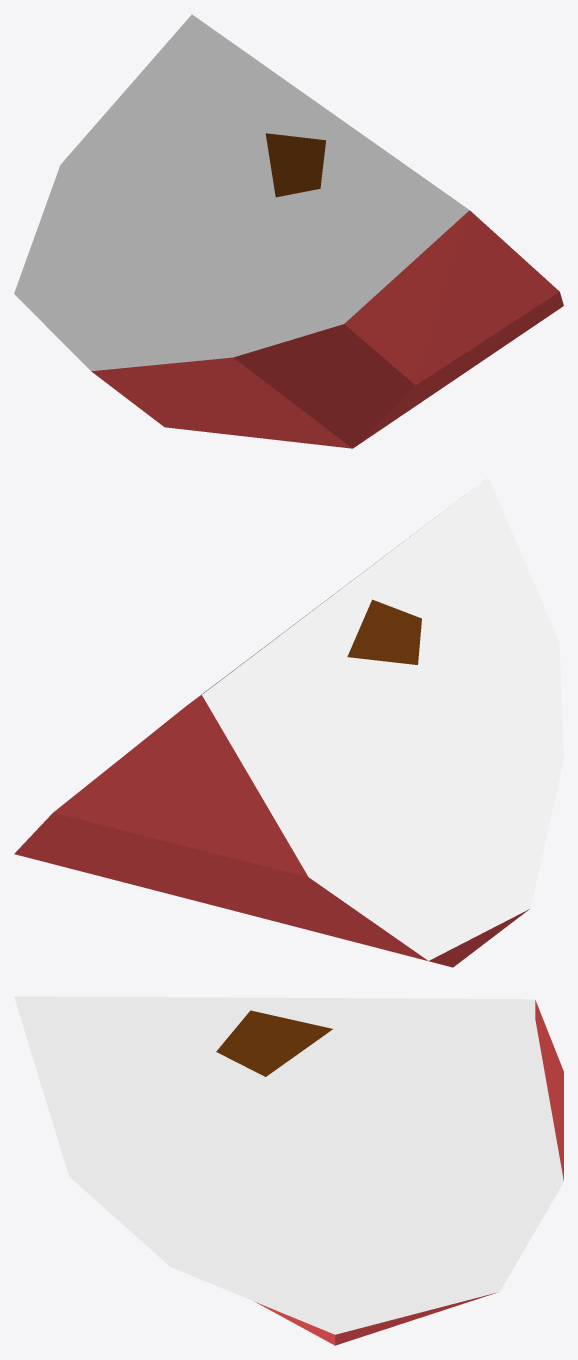
File: applered03.gltf
The picture shows the model from 3 angles, top to bottom: view 1: azimuth 30°, elevation 25°; view 2: azimuth 150°, elevation 25°; view 3: azimuth 270°, elevation 25°; orthographic projection. The views are drawn at different scales.
Visible parts, largest first — view 1: Icosphere; view 2: Icosphere; view 3: Icosphere.
Part boxes in pixels (<box>): Icosphere: <box>14,14,563,448</box>; Icosphere: <box>14,477,563,967</box>; Icosphere: <box>14,996,563,1345</box>.
Size of the model in its own units: 0.0638 by 0.0434 by 0.0741.
1 material, 1 textured.
